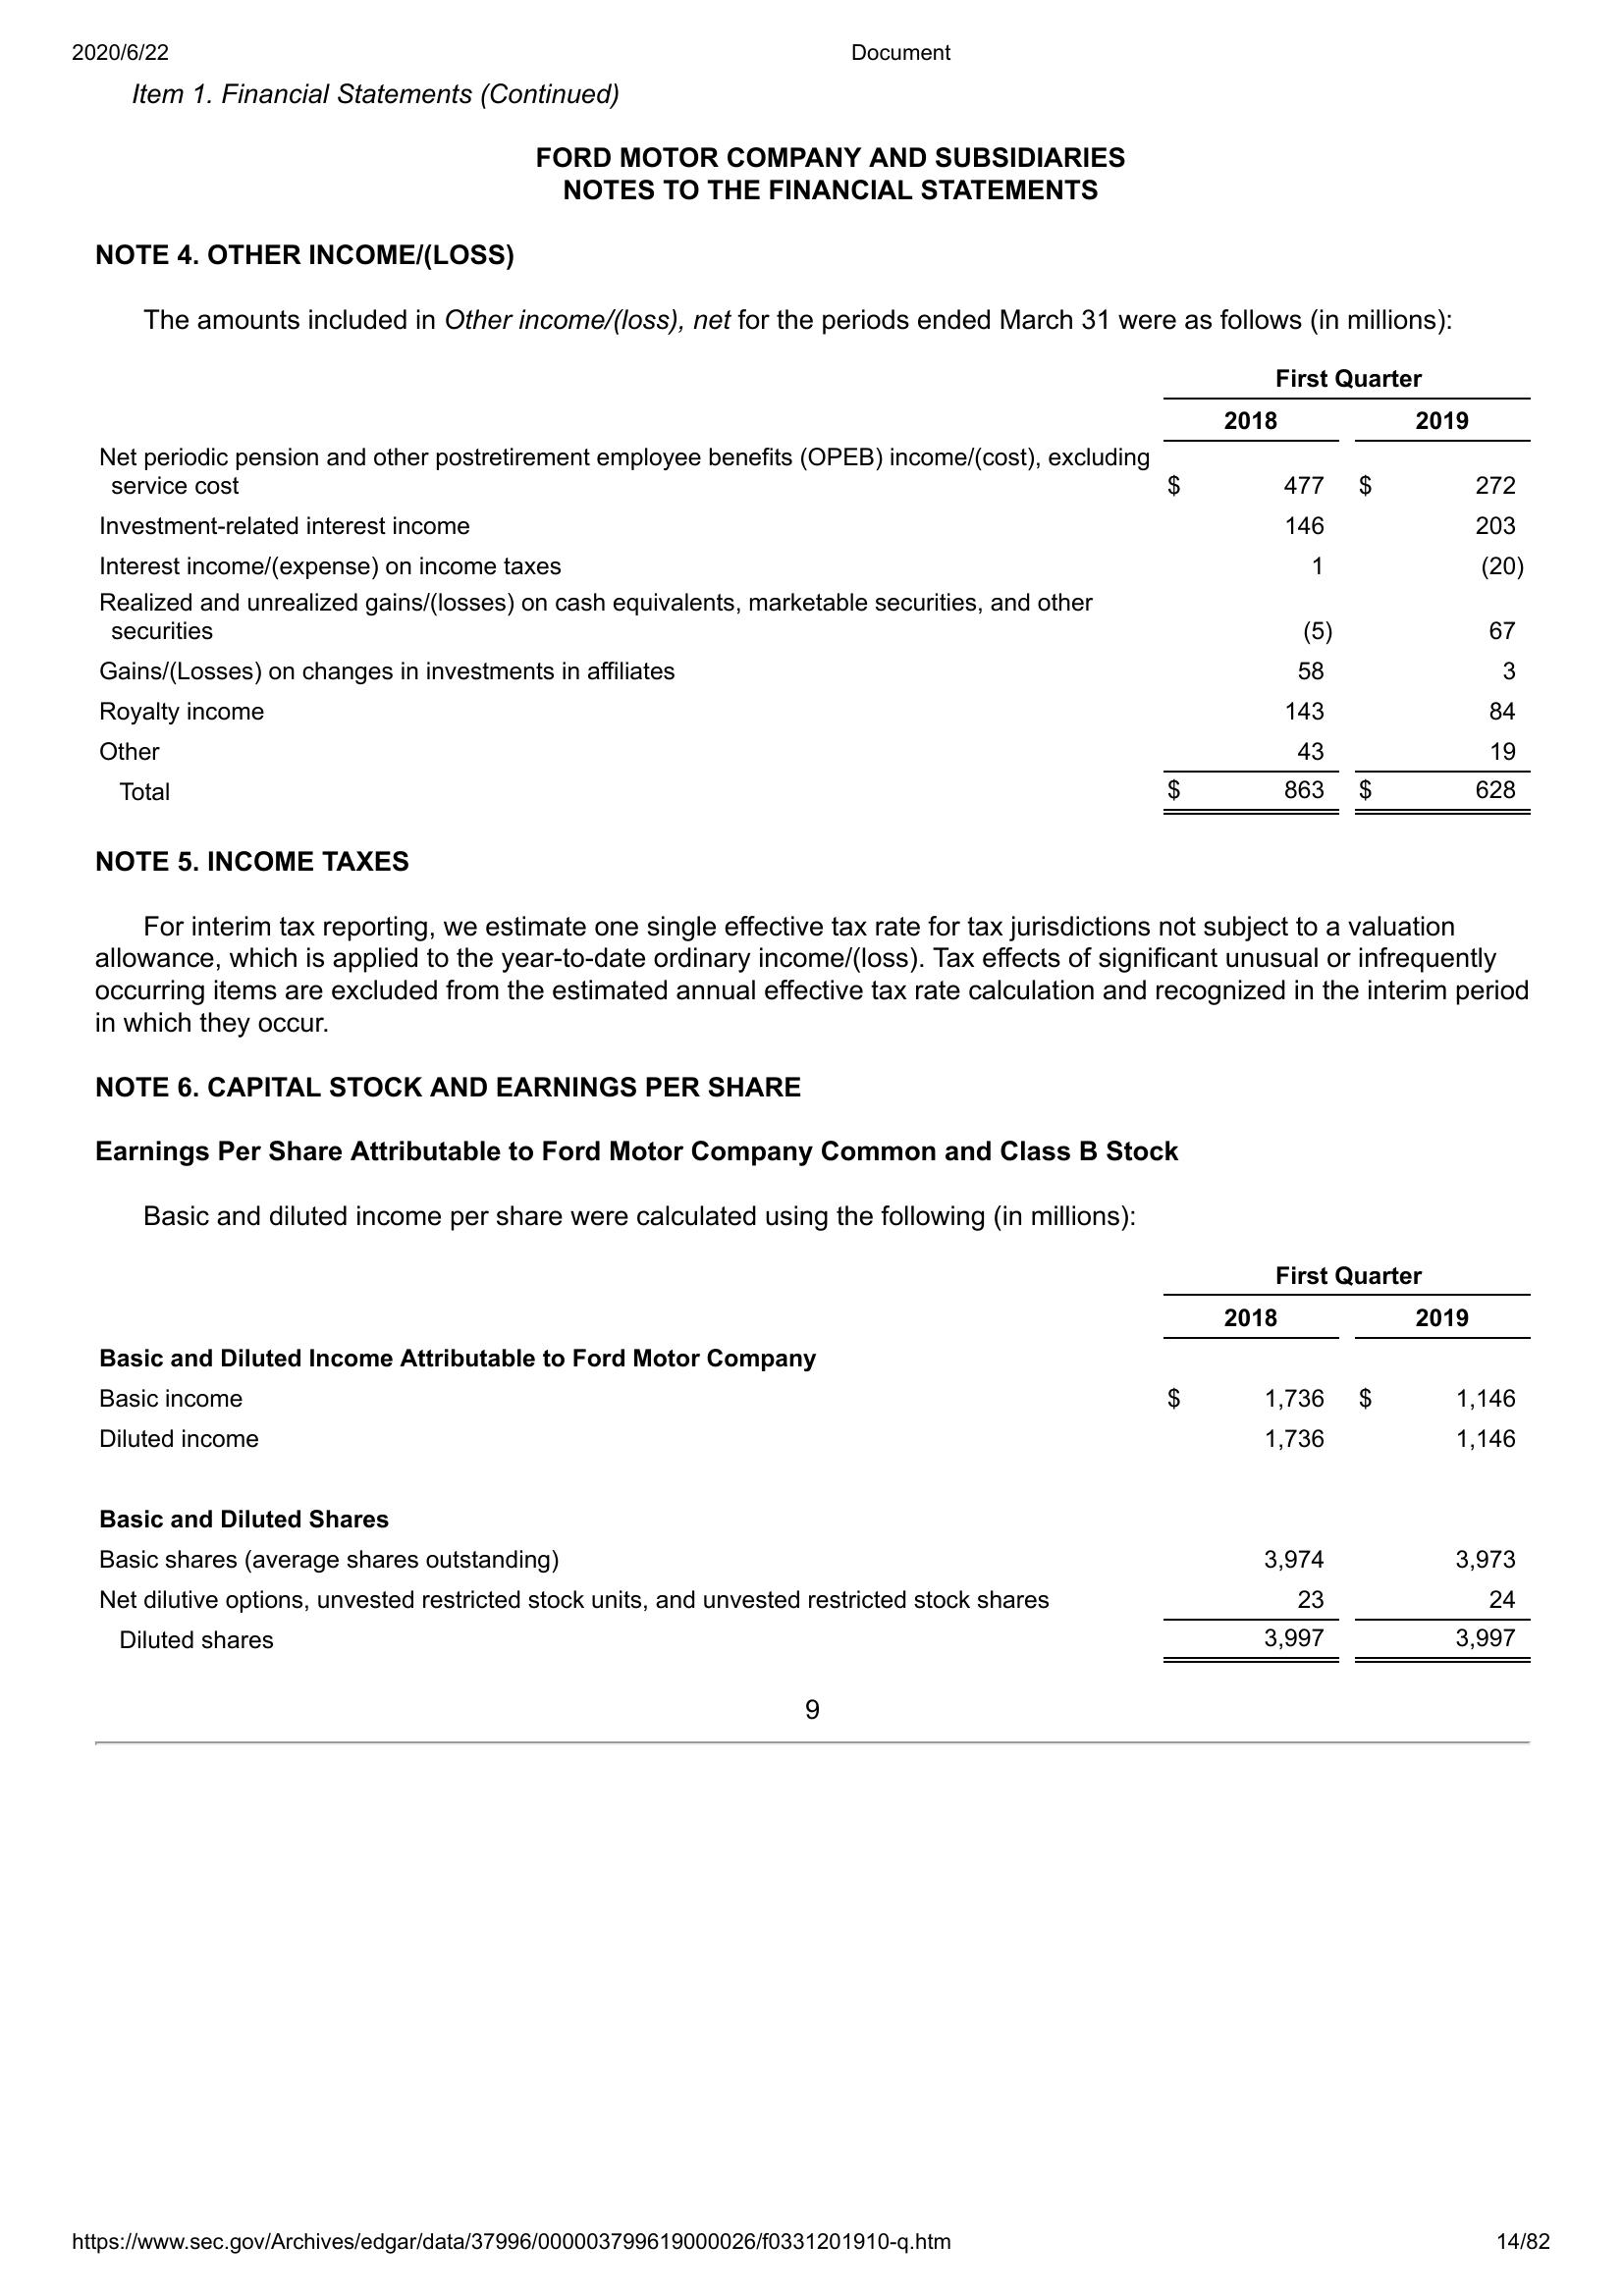table: (84, 358, 1546, 825), (91, 1257, 1533, 1668)
